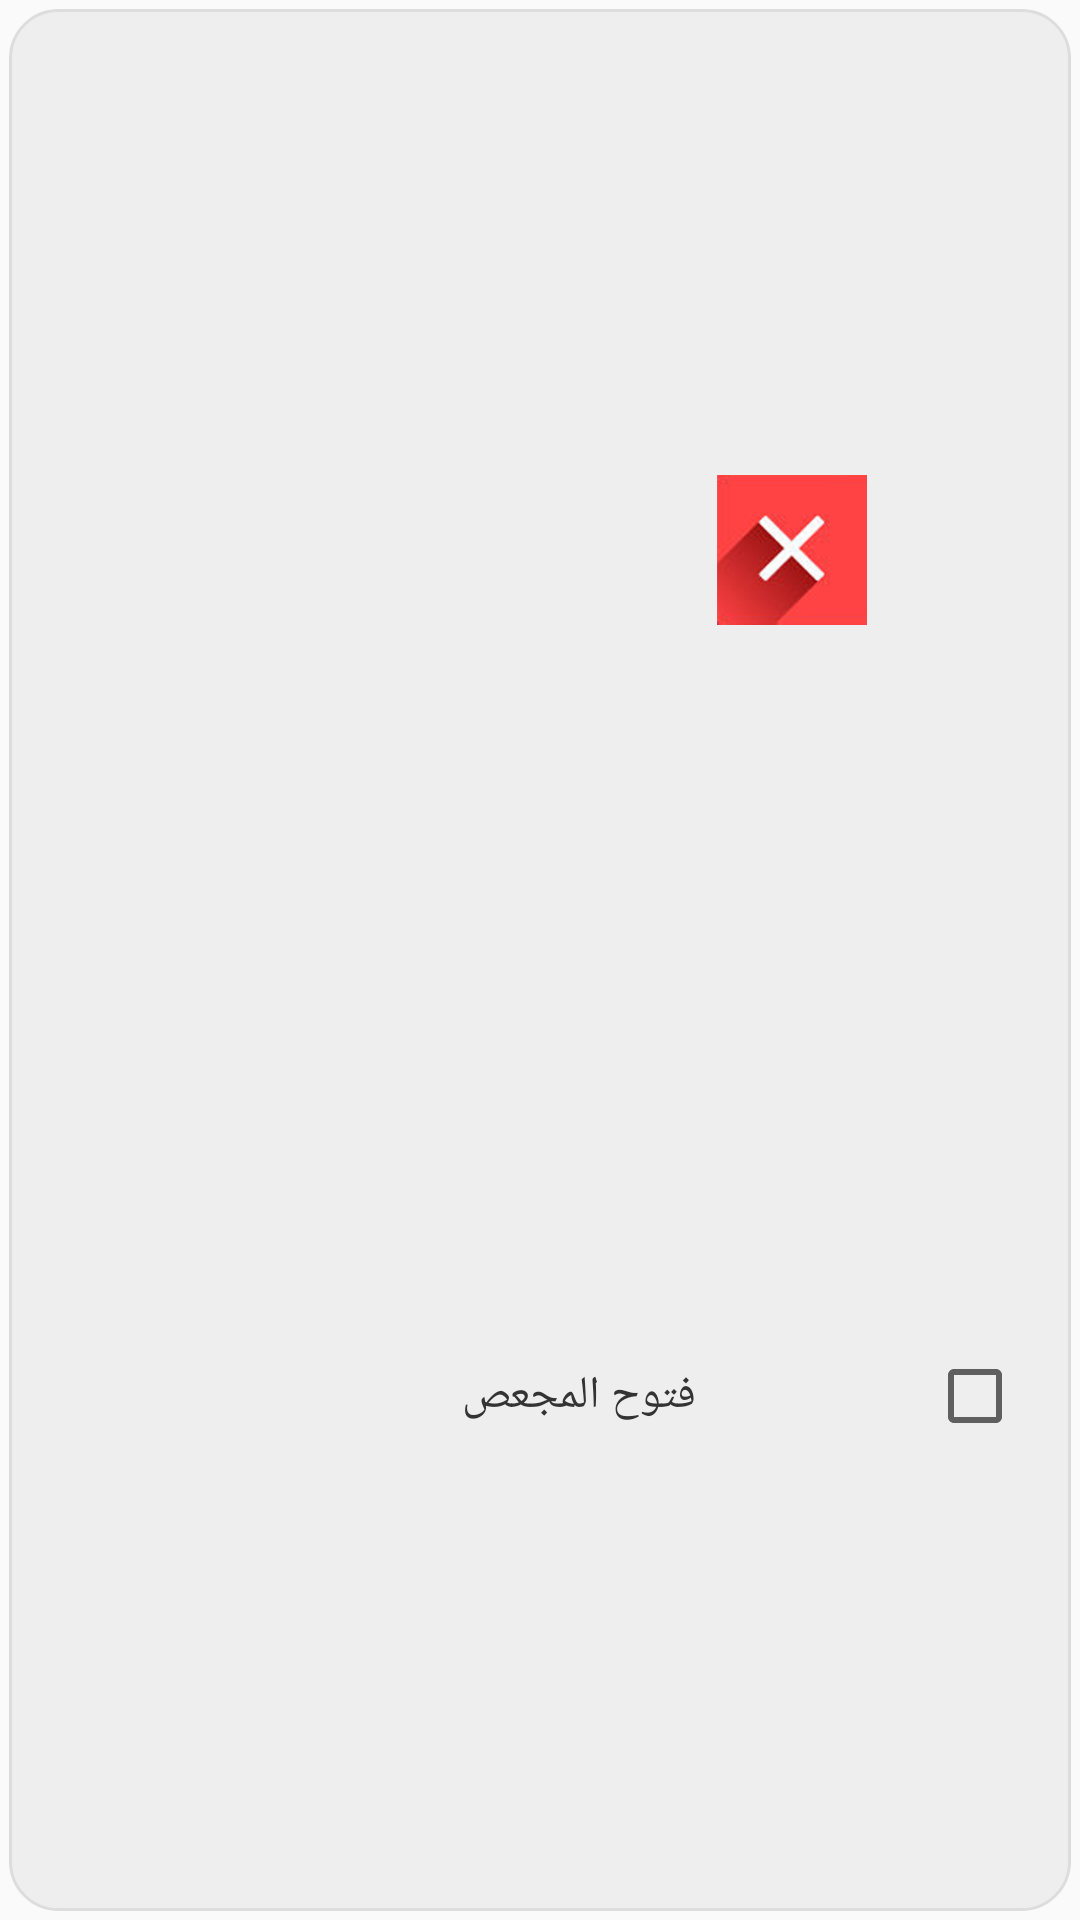

Icons on this 1080px×1920px Android screen, each with the point to tap as (x,y):
close: (792,550)
